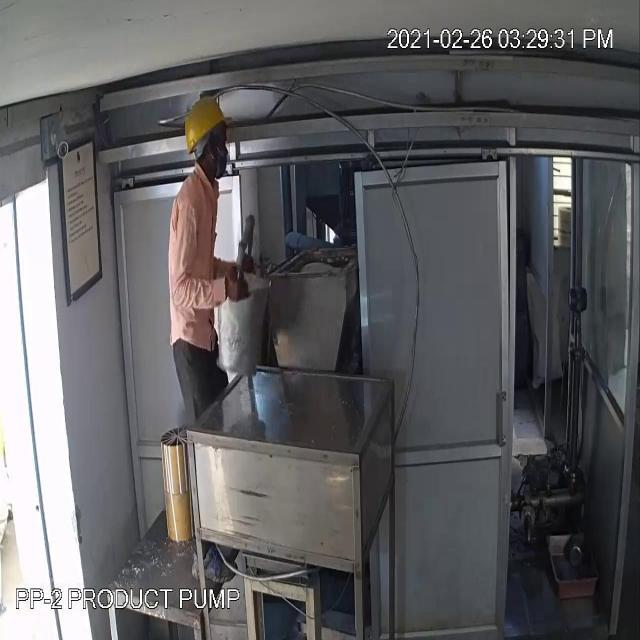hat: (180, 92, 234, 154)
